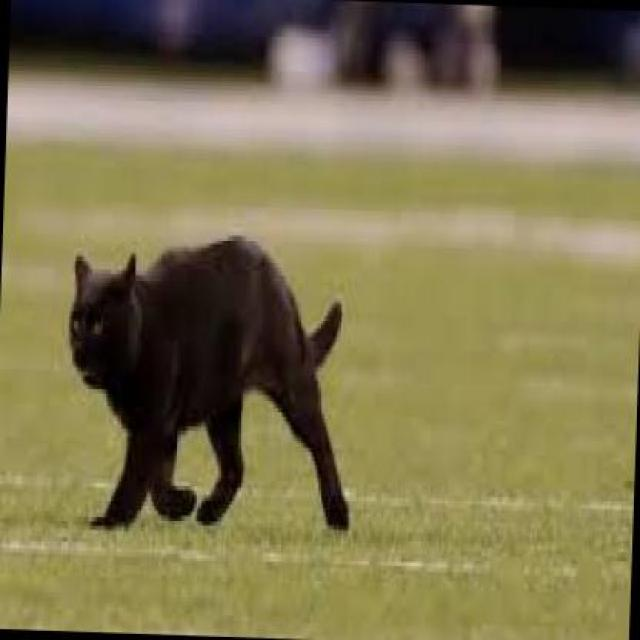animals: (47, 213, 359, 569)
